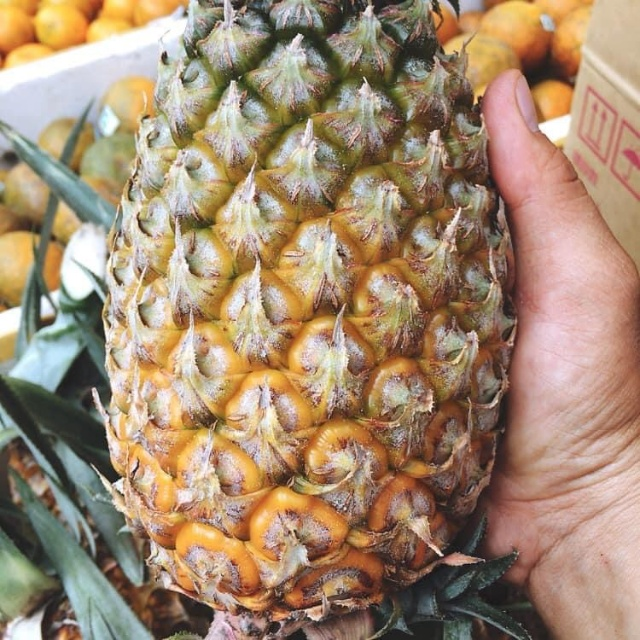thom: (94, 1, 529, 632)
